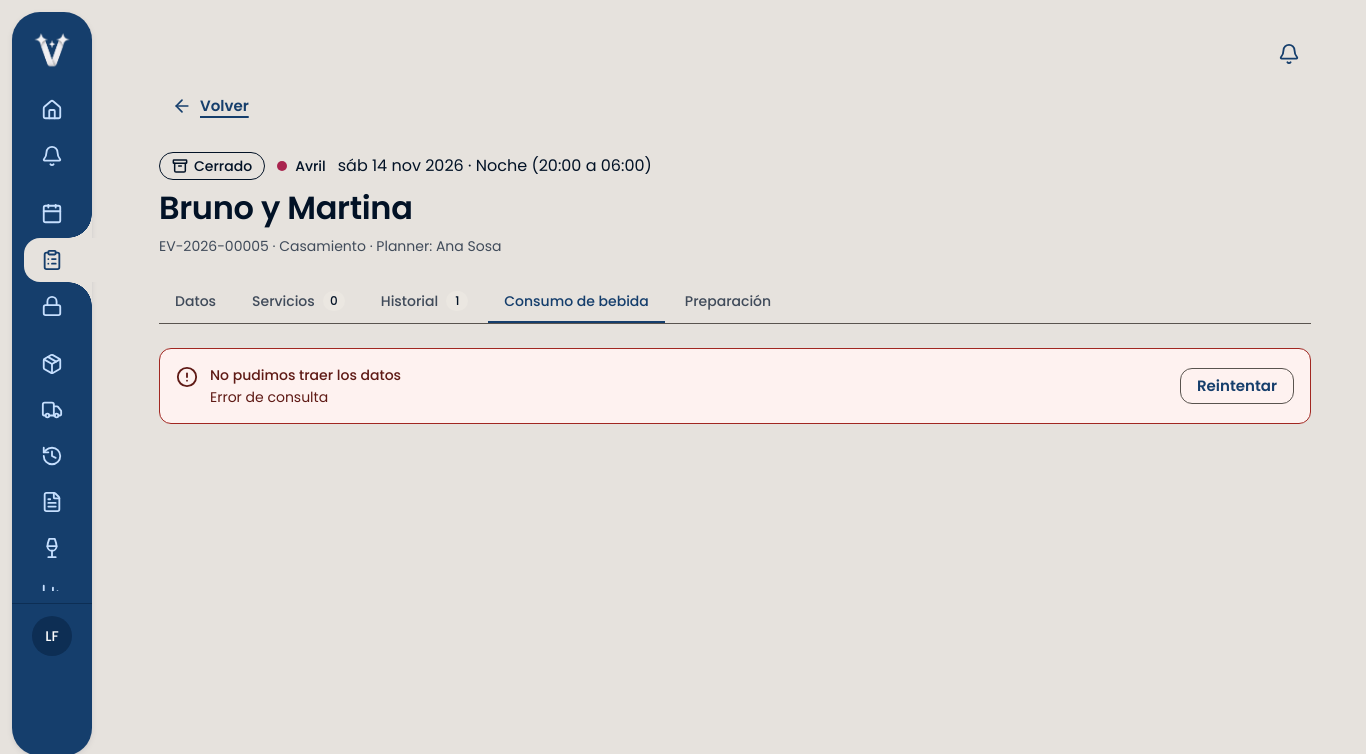
Test case: muestra errores y permite reintentar
Check: the text "Error de consulta" is shown, box [210,387,328,407]
Click the button "Reintentar" at (1237, 386), box [1180,368,1294,404]
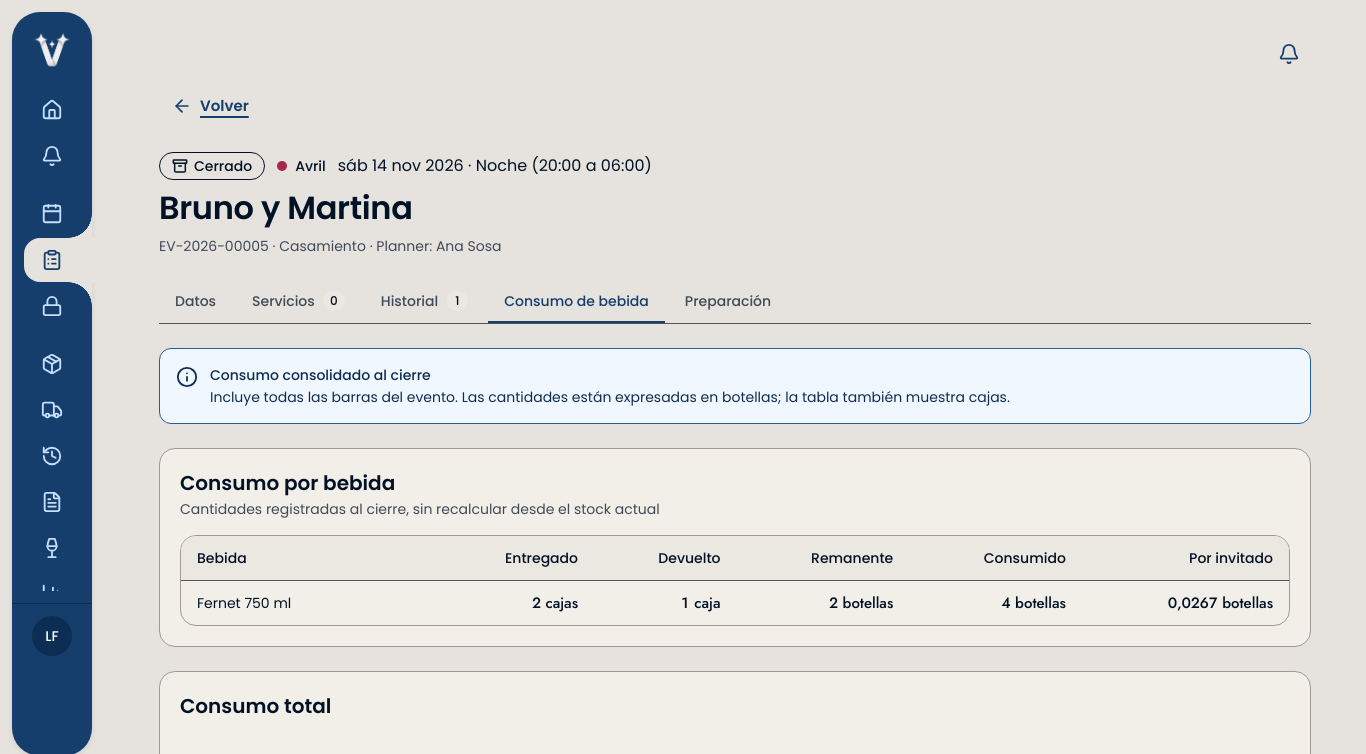
Check: the table named "Consumo por bebida" is shown, box [181,536,1289,625]
